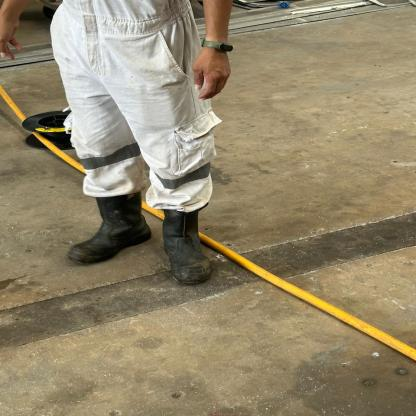bota: (63, 194, 152, 266), (158, 205, 217, 288)
